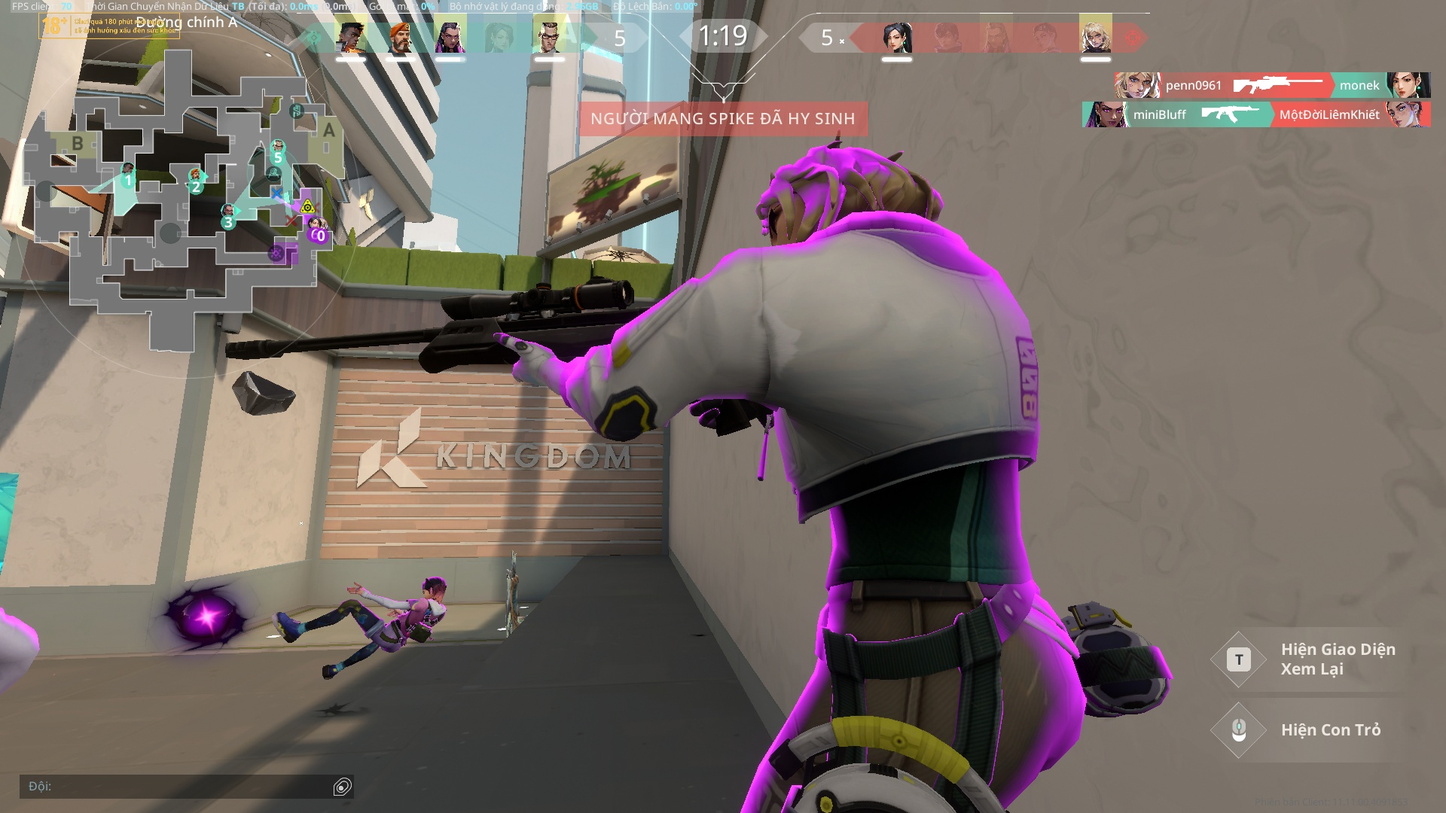body: (759, 232, 1038, 578), (383, 594, 437, 639)
head: (747, 160, 925, 246), (422, 573, 449, 604)
